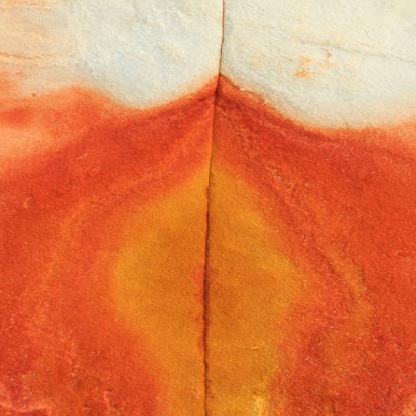Sedimentary_Sandstone: (0, 3, 415, 415)
